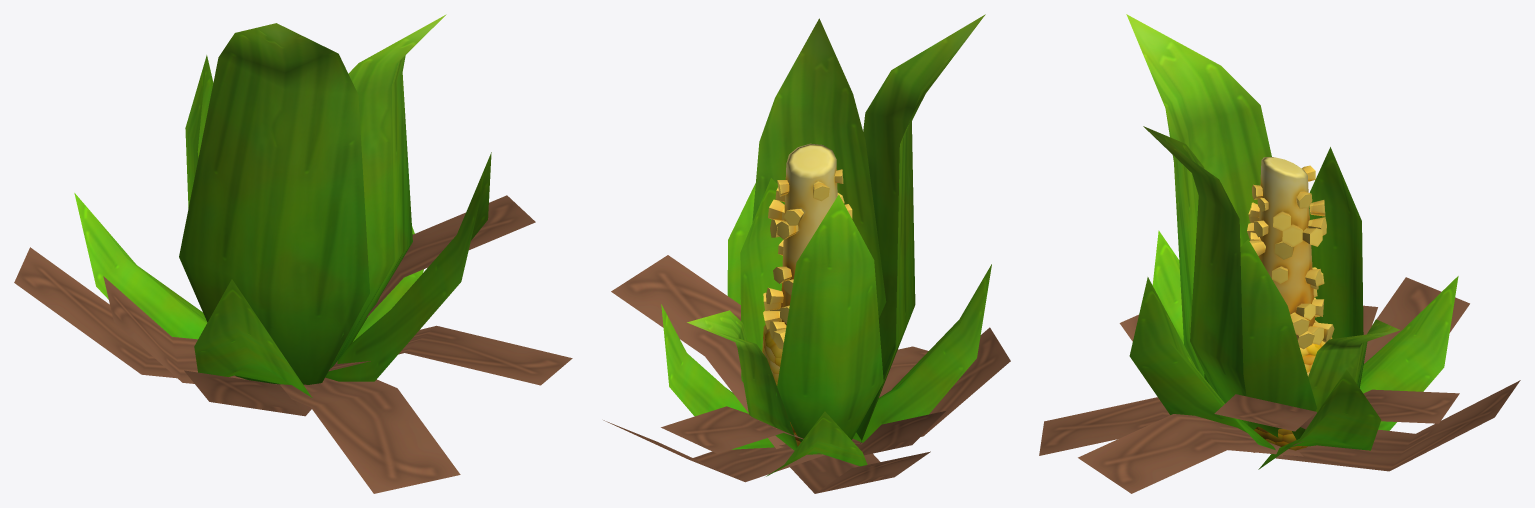
Rendered from hvs_farmables_cornplant_broken.fbx.
3 views of the same model, side by side, from view 1: azimuth 30°, elevation 25°; view 2: azimuth 150°, elevation 25°; view 3: azimuth 270°, elevation 25° (orthographic). The views are drawn at different scales.
Visible parts, largest first — view 1: hvs_farmables_cornplant_broken3; view 2: hvs_farmables_cornplant_broken3; view 3: hvs_farmables_cornplant_broken3.
Part boxes in pixels (x1,y1,x2,y2): hvs_farmables_cornplant_broken3: (14, 14, 572, 493); hvs_farmables_cornplant_broken3: (603, 14, 1010, 493); hvs_farmables_cornplant_broken3: (1039, 14, 1520, 493).
Bounding box in the file's own units: 8.47 × 8.46 × 9.56.
1 material, 1 textured.
